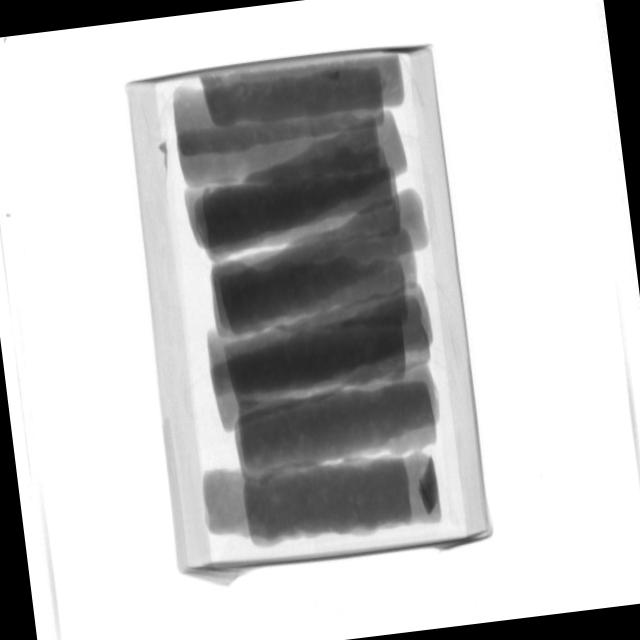ym: (417, 457, 443, 517), (155, 135, 172, 184), (327, 66, 344, 87)
